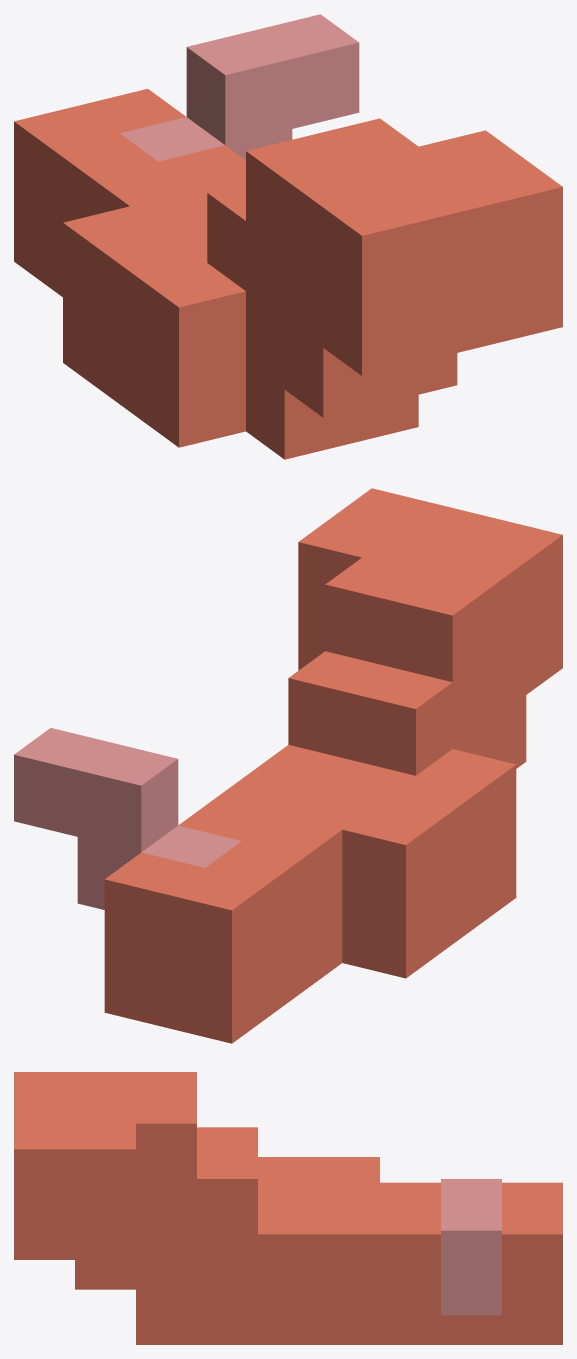
The model's file is octopus__arm_5.obj.
The picture shows the model from 3 angles, top to bottom: view 1: azimuth 30°, elevation 25°; view 2: azimuth 150°, elevation 25°; view 3: azimuth 270°, elevation 25°; orthographic projection. The views are drawn at different scales.
Parts seen in each view (by area): view 1: octopus__arm_5; view 2: octopus__arm_5; view 3: octopus__arm_5.
Boxes of the visible parts, x1,y1,x2,y2 form: octopus__arm_5: (14, 14, 562, 459); octopus__arm_5: (14, 488, 562, 1043); octopus__arm_5: (14, 1072, 562, 1344).
Size of the model in its own units: 0.5 by 0.4 by 0.9.
Materials: 1 (1 with a texture image).
